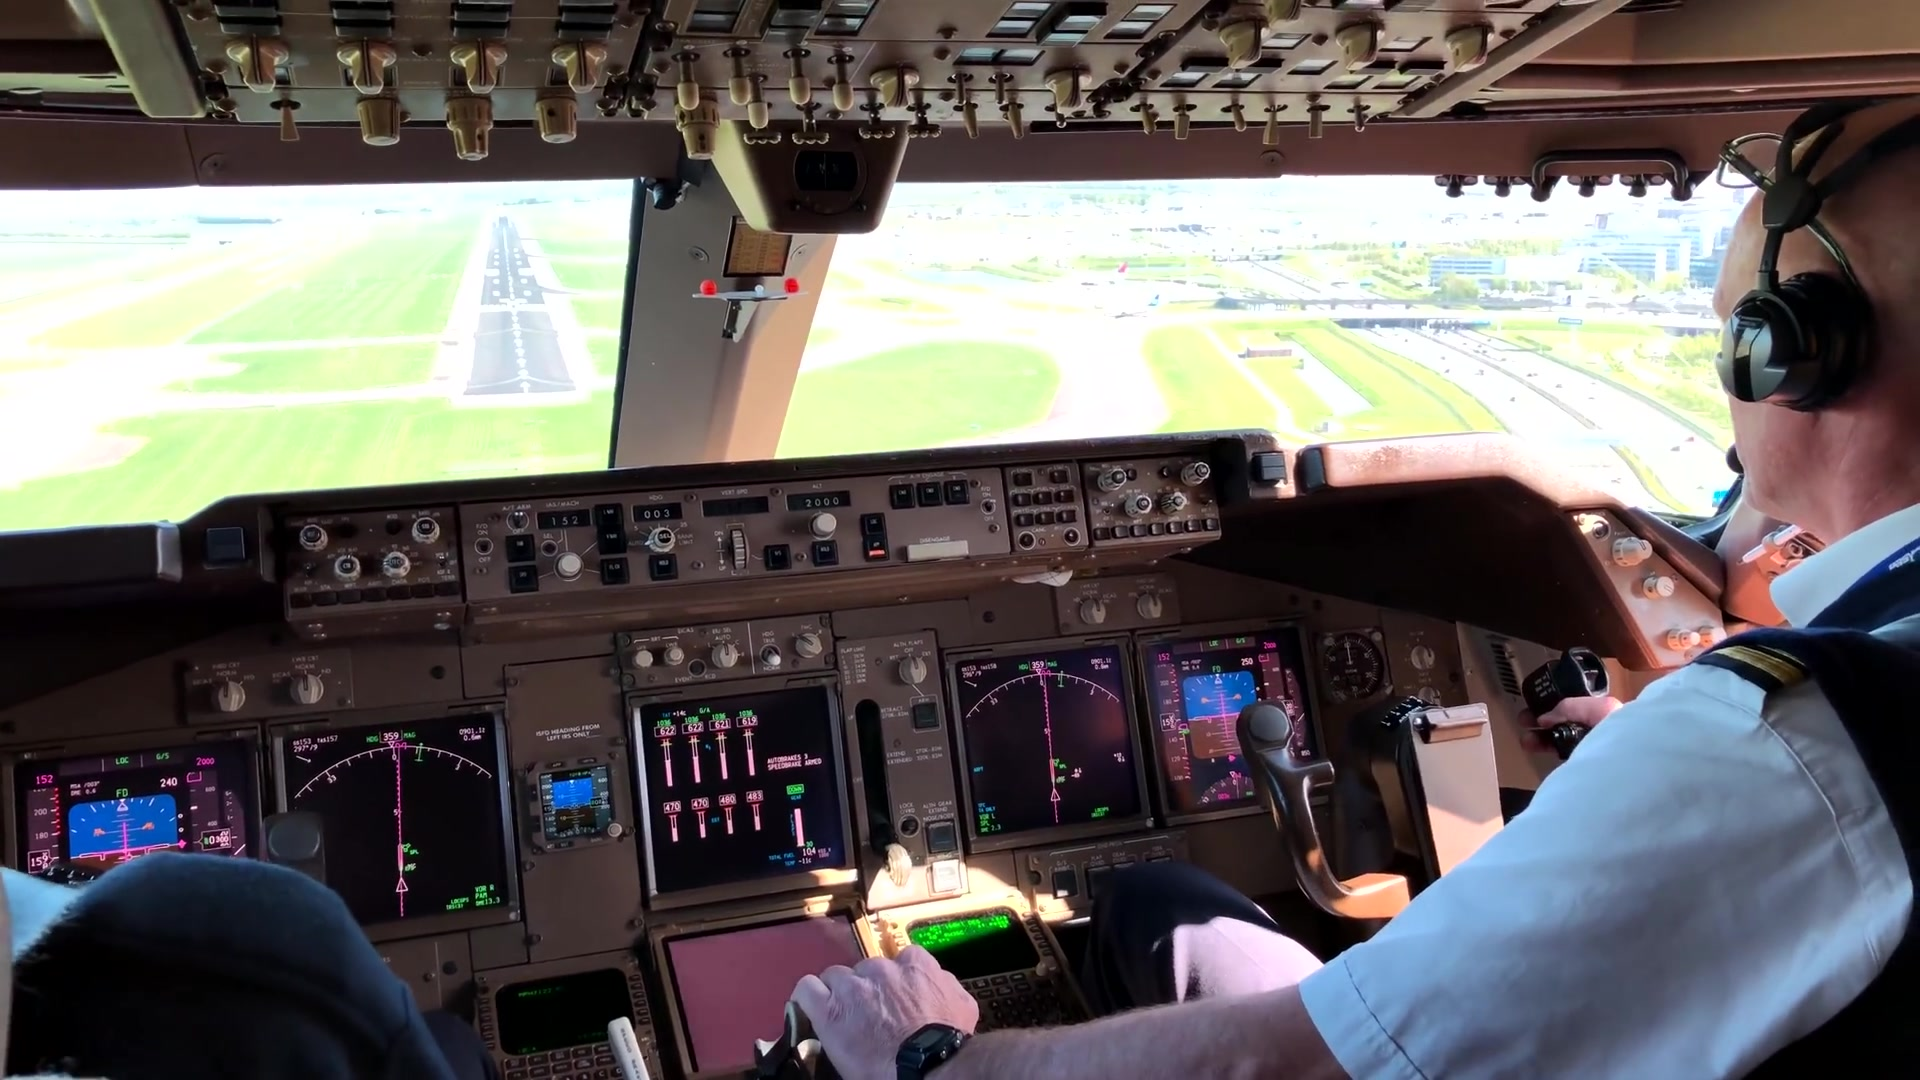runway: (463, 219, 574, 398)
